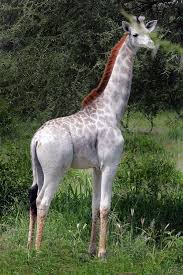Jirafa: (17, 9, 171, 236)
